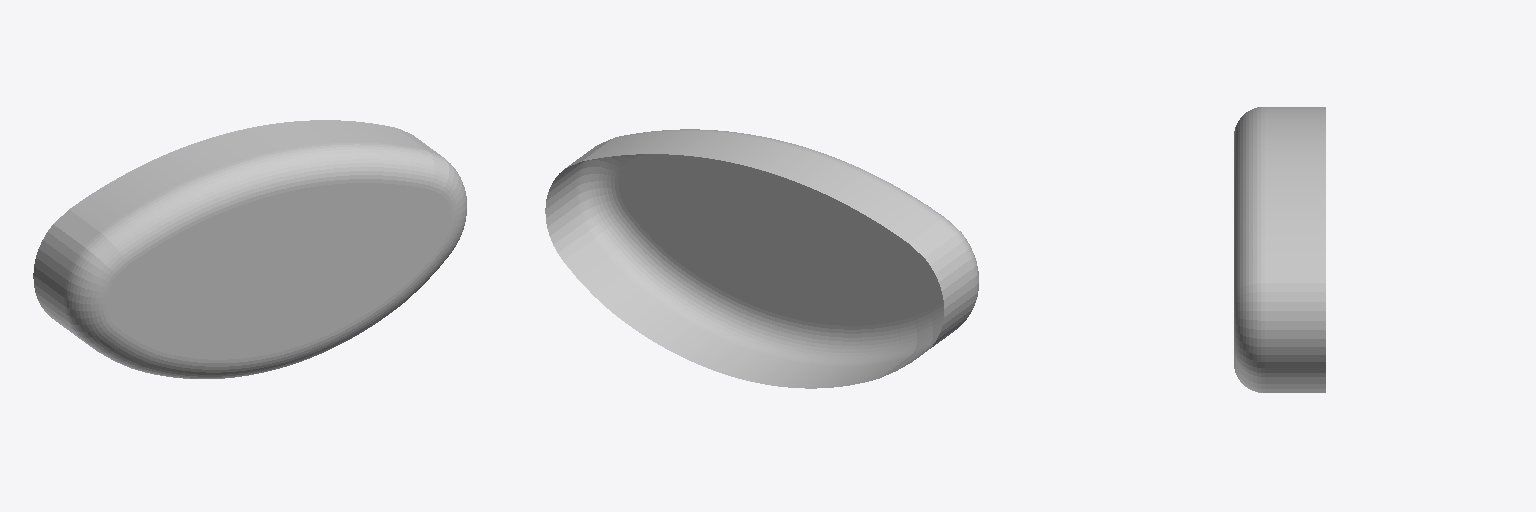
The model's file is original-32.obj.
The picture shows the model from 3 angles: view 1: azimuth 30°, elevation 25°; view 2: azimuth 150°, elevation 25°; view 3: azimuth 270°, elevation 25°; orthographic projection.
Visible parts, largest first — view 1: #ID197; view 2: #ID197; view 3: #ID197.
Boxes of the visible parts, box(x1,y1,x2,y2) form: #ID197: box(33, 120, 466, 378); #ID197: box(545, 129, 978, 388); #ID197: box(1234, 107, 1325, 392).
Size of the model in its own units: 0.1641 by 0.0843 by 0.033.